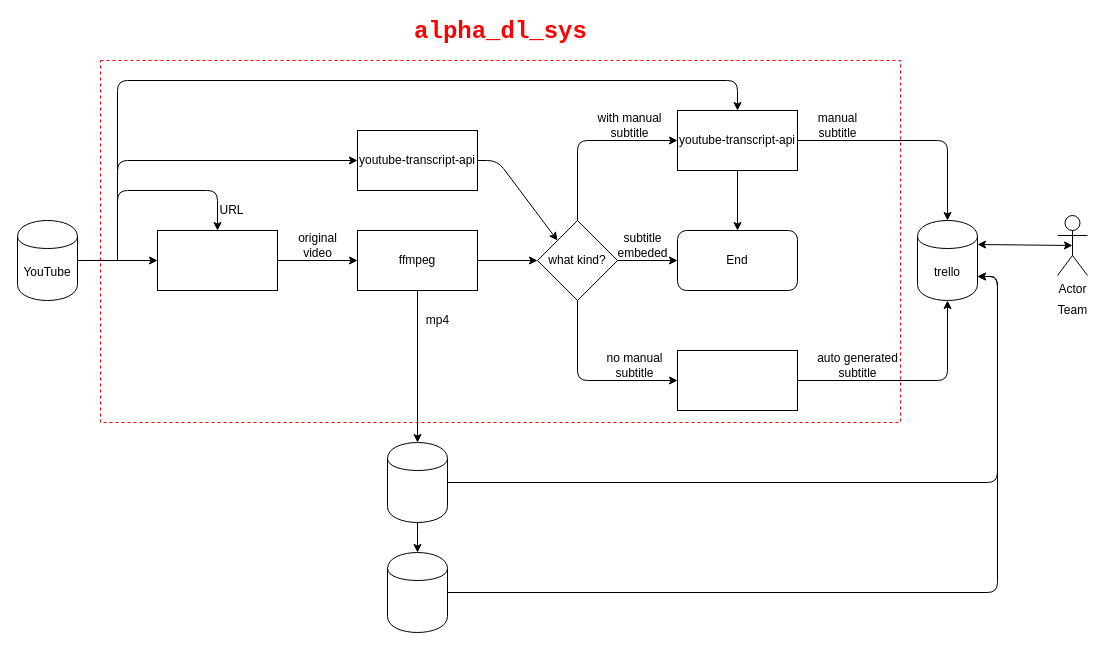
The diagram is 1110 pixels wide and 650 high, and some of its shapes have lost their labels. The shapes that lost their labels are listed below. From the top down, each one's centre as x and y in pixels, then its label:
point 217,260: youtube-dl
point 737,380: autosub
point 417,482: OneDrive
point 417,592: Google Drive
